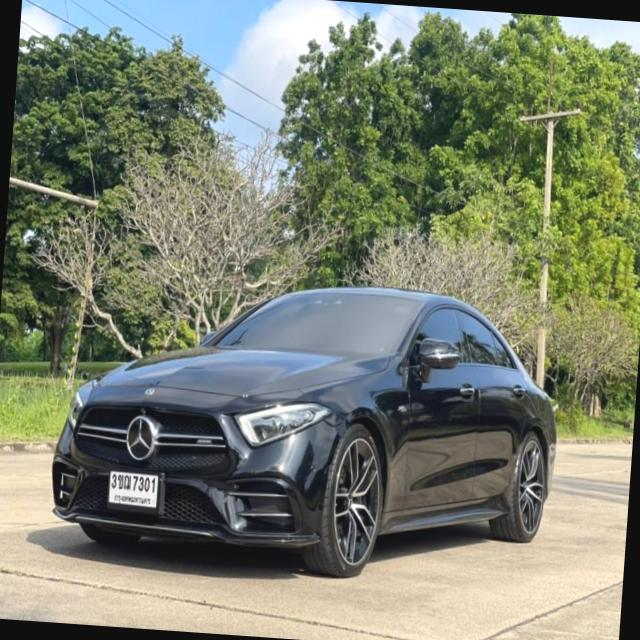license_plate: (102, 461, 166, 516)
